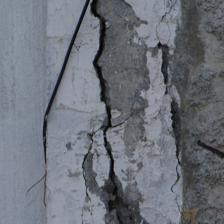Crack: (89, 3, 135, 222), (80, 109, 143, 191), (160, 43, 187, 207)
